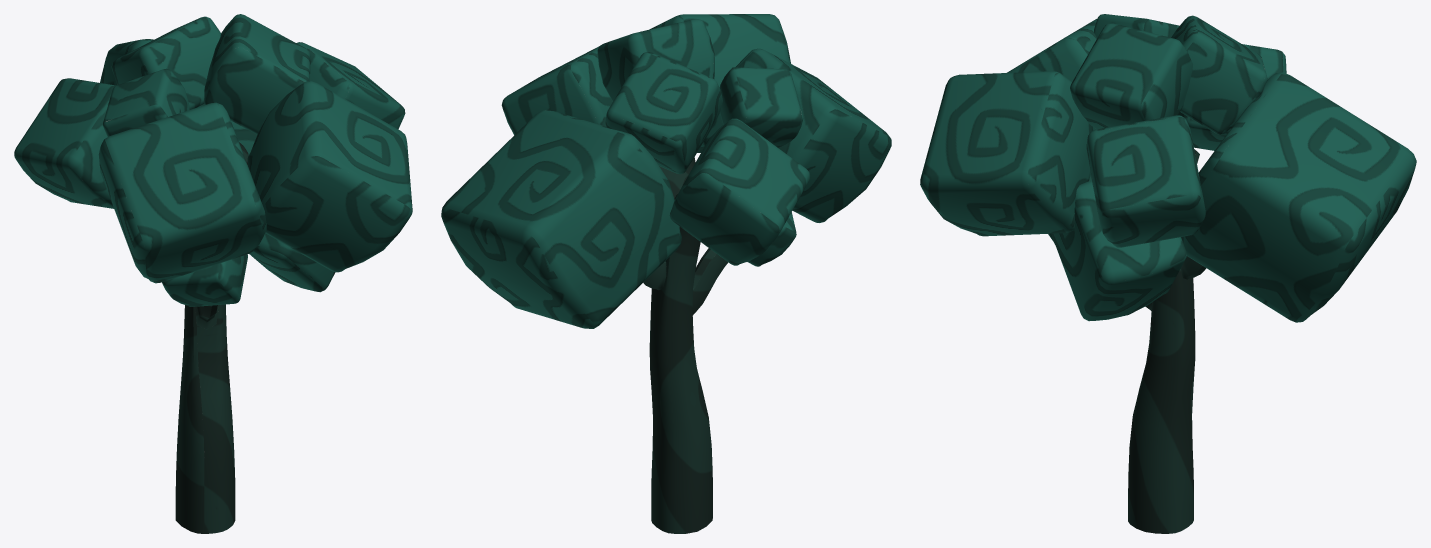
3 renders of one model, left to right at view 1: azimuth 30°, elevation 25°; view 2: azimuth 150°, elevation 25°; view 3: azimuth 270°, elevation 25°, orthographic. The views are drawn at different scales.
Parts seen in each view (by area): view 1: Default; view 2: Default; view 3: Default.
Part boxes in pixels (x1,y1,x2,y2): Default: (14,14,412,533); Default: (441,14,891,533); Default: (920,14,1416,533).
Bounding box in the file's own units: 128 × 189 × 169.
Materials: 1 (1 with a texture image).
